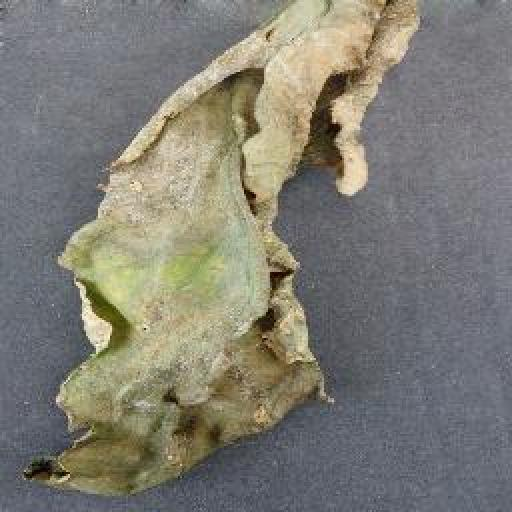disease_tomato: (28, 0, 422, 494)
